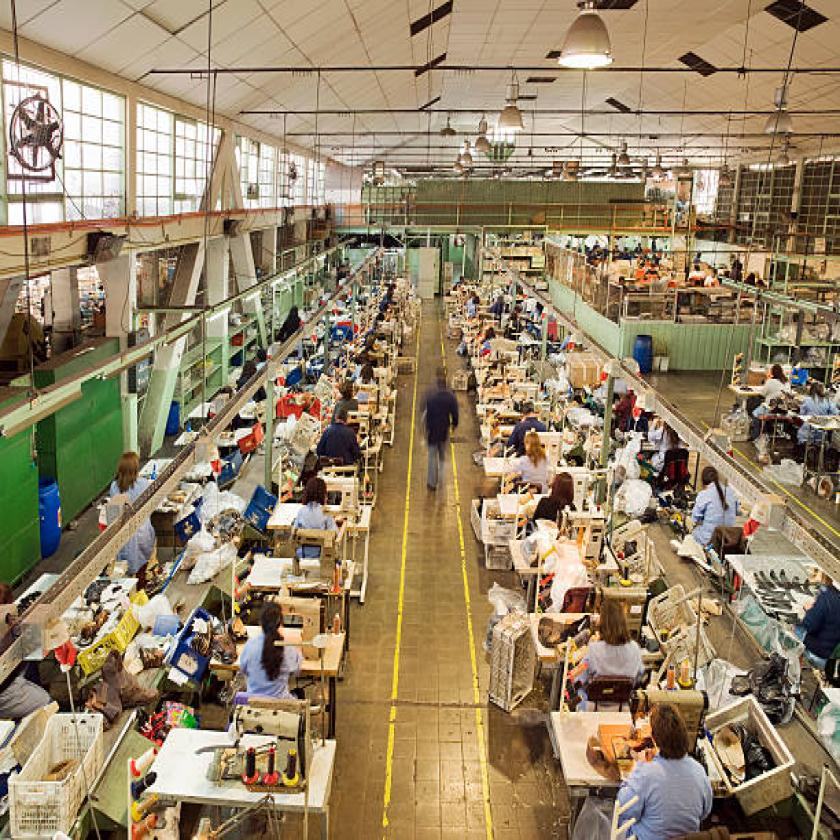Sin_casco: (523, 428, 545, 466), (330, 407, 352, 429)
